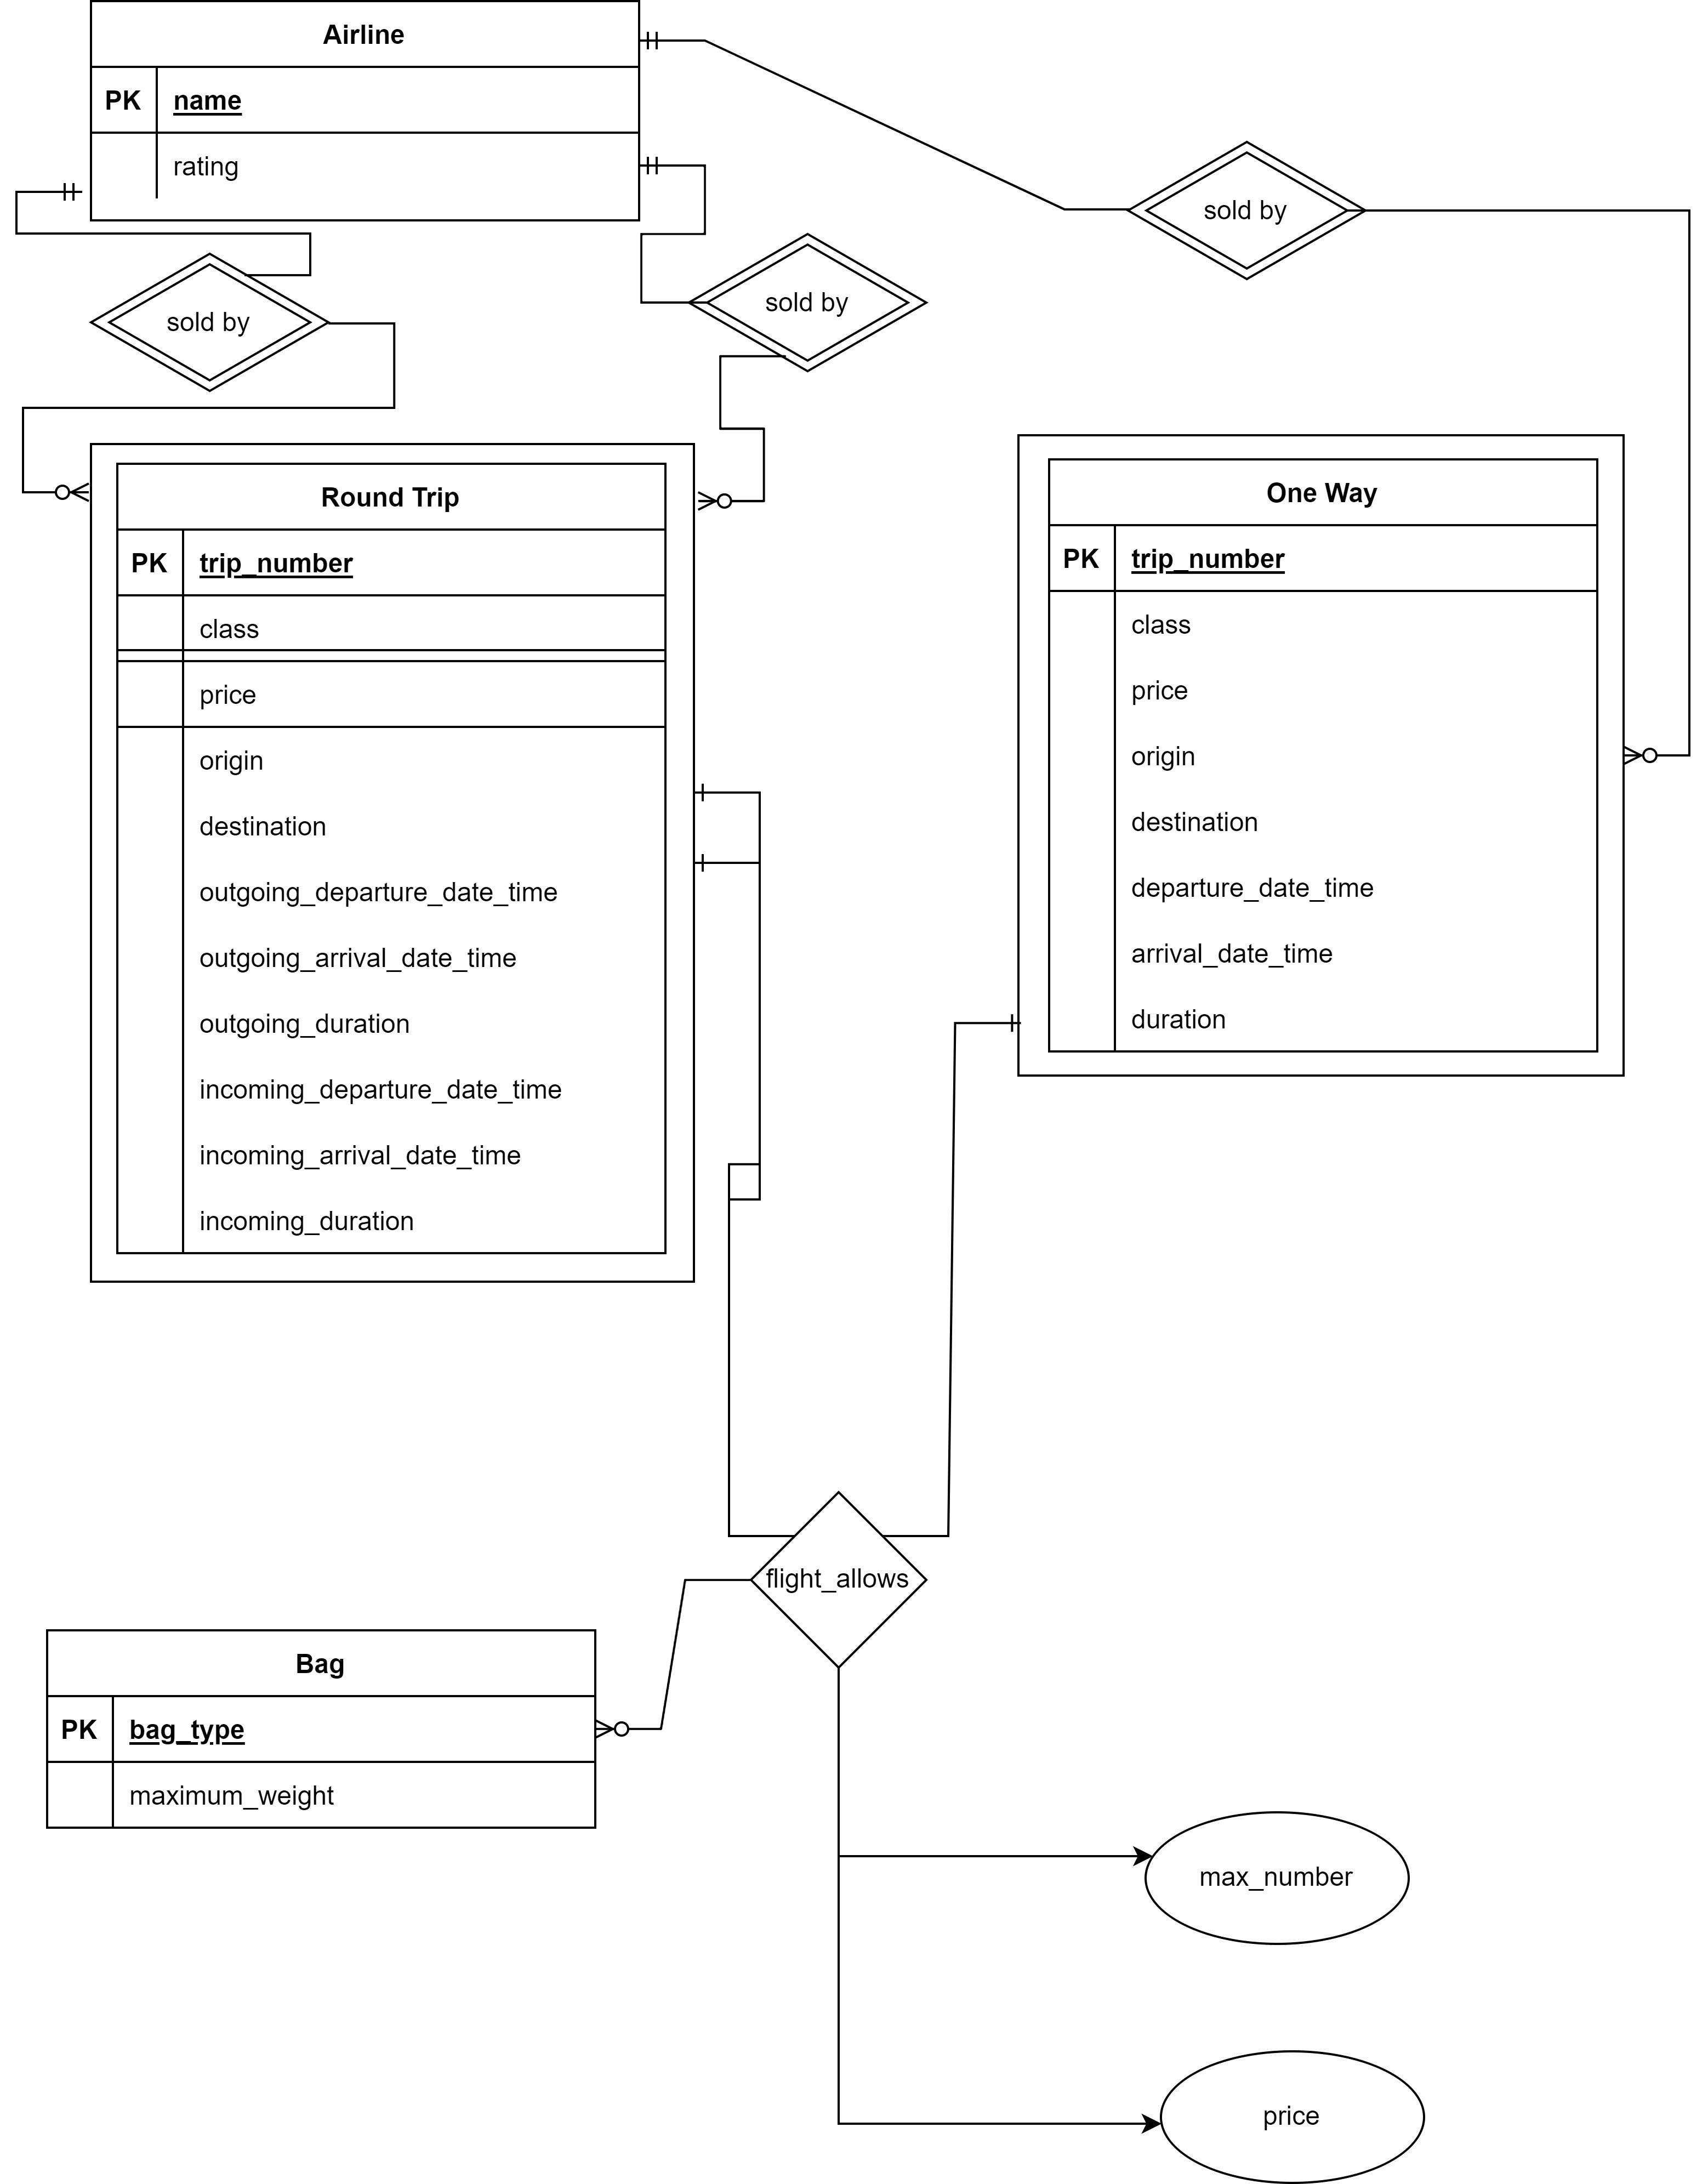entity: (94, 2, 640, 223), (50, 1631, 597, 1826)
ident_rel: (1129, 140, 1366, 278), (691, 236, 930, 372), (89, 253, 330, 388)
many: (23, 479, 90, 507), (695, 489, 767, 514), (1623, 745, 1690, 768), (595, 1718, 659, 1741)
one: (16, 179, 92, 202), (638, 30, 702, 51), (641, 156, 703, 177), (955, 1012, 1017, 1033), (695, 784, 758, 803), (693, 854, 760, 870)
rel: (751, 1493, 923, 1668)
rel_attr: (1146, 1808, 1410, 1950), (1164, 2048, 1430, 2184)
weak_entity: (87, 441, 693, 1285), (1015, 436, 1632, 1074)
